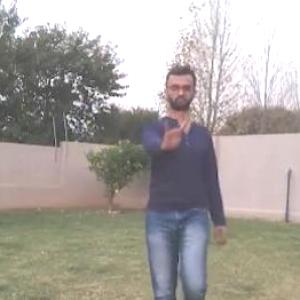takeoff-hand: (153, 106, 192, 154)
